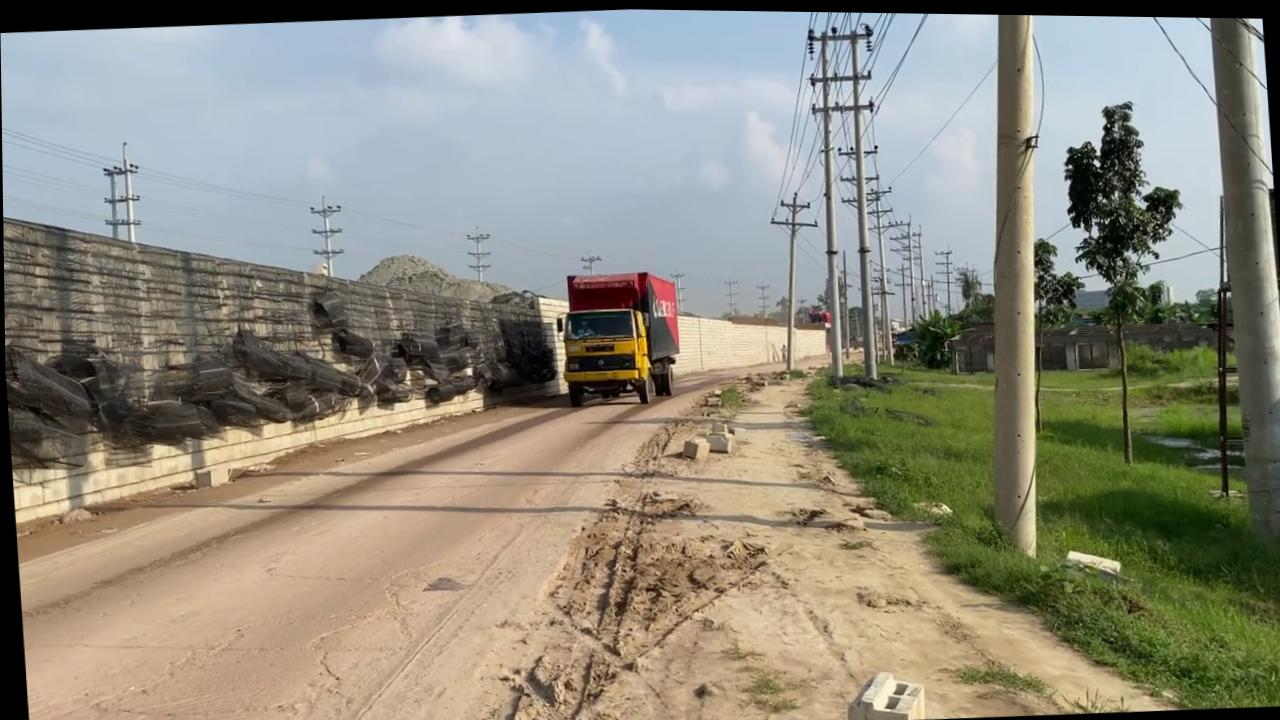Garbage: (3, 276, 558, 473)
Obstacle: (840, 665, 924, 720), (677, 415, 735, 461), (702, 416, 735, 451), (678, 433, 709, 459)
Pole: (959, 11, 1068, 558), (1205, 14, 1280, 553), (835, 21, 893, 378), (805, 27, 851, 375)
Rickshaw: (591, 341, 1182, 720)
Traffic-sign: (1055, 93, 1197, 464)
Tree: (550, 266, 683, 407)
